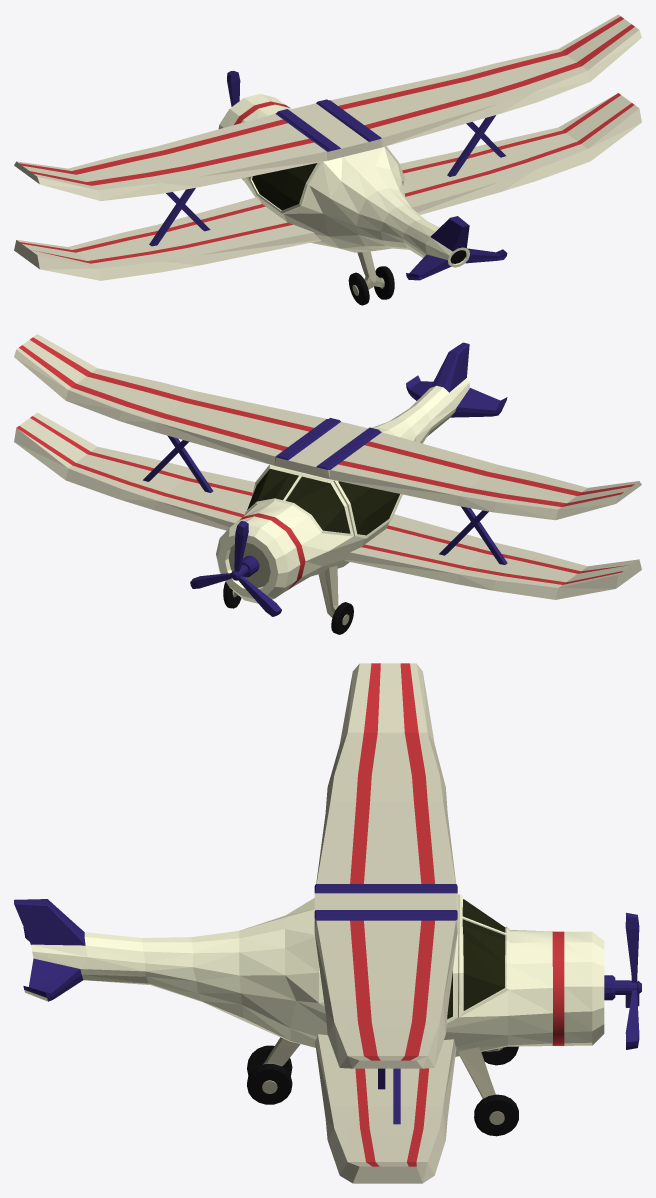
Rendered from Avioneta.fbx.
The picture shows the model from 3 angles, top to bottom: view 1: azimuth 30°, elevation 25°; view 2: azimuth 150°, elevation 25°; view 3: azimuth 270°, elevation 25°; orthographic projection. The views are drawn at different scales.
Visible parts, largest first — view 1: Object001, Object005, Cylinder001, Object004, Box004, Box002; view 2: Object001, Object005, Cylinder001, Cylinder002, Object003, Box002, Box004; view 3: Object001, Cylinder001, Object005, Object003, Object004, Cylinder002.
Part boxes in pixels (box(x1,y1,x2,y2)): Object001: box(14, 14, 641, 200); Object005: box(14, 93, 641, 280); Cylinder001: box(218, 94, 507, 280); Object004: box(348, 251, 394, 305); Box004: box(447, 115, 495, 176); Box002: box(149, 188, 195, 246); Object001: box(14, 334, 641, 520); Object005: box(14, 412, 641, 599); Cylinder001: box(216, 342, 507, 603); Cylinder002: box(190, 521, 281, 616); Object003: box(223, 565, 353, 634); Box002: box(461, 506, 507, 564); Box004: box(167, 435, 213, 492); Object001: box(314, 663, 457, 1068); Cylinder001: box(14, 893, 604, 1056); Object005: box(315, 1034, 456, 1183); Object003: box(458, 1046, 518, 1136); Object004: box(247, 1037, 300, 1104); Cylinder002: box(604, 912, 641, 1049).
Bounding box in the file's own units: 4648 × 1297 × 3106.
